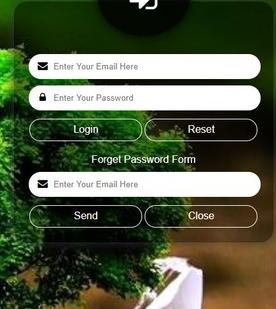button: (29, 116, 143, 143), (28, 203, 143, 229), (145, 117, 259, 143), (146, 203, 259, 229)
field: (27, 83, 261, 112), (28, 170, 261, 199), (27, 52, 261, 80)
